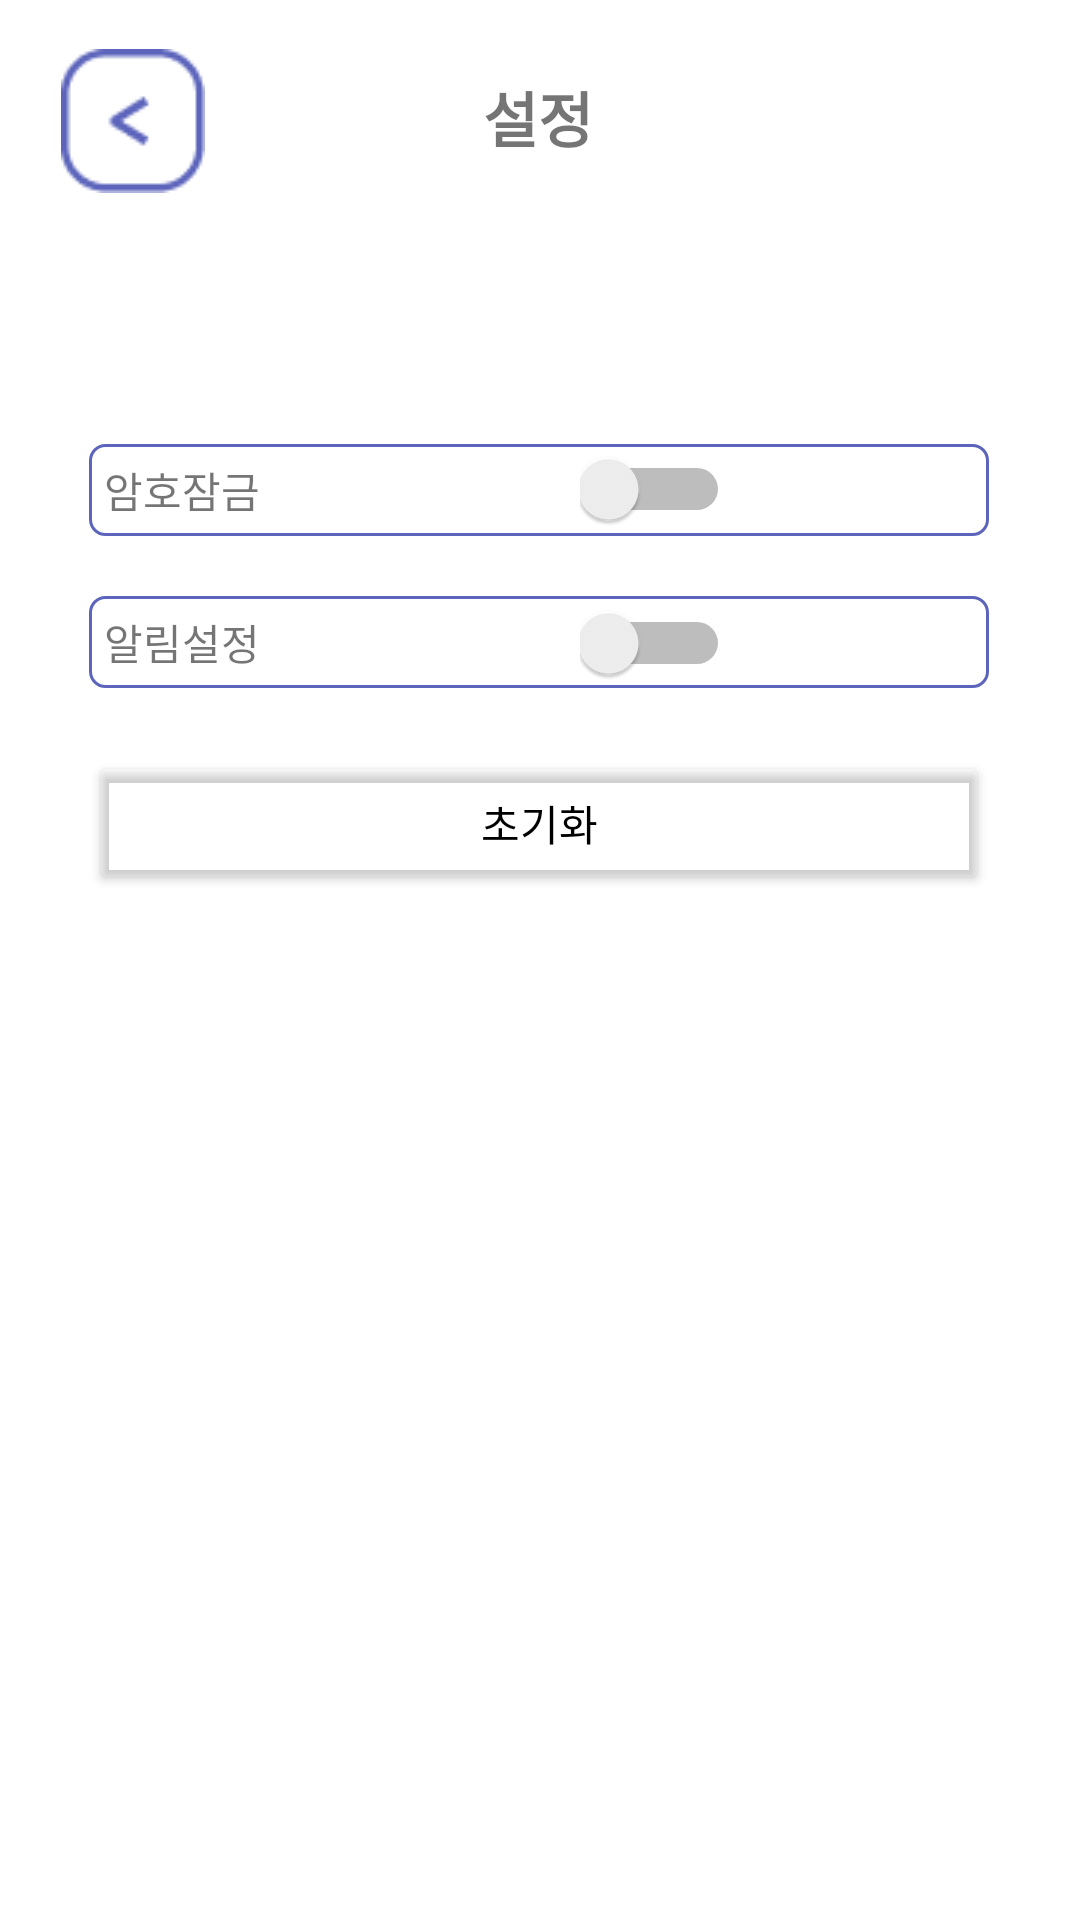

Icon bounding boxes for this 1080 × 1920 phone screenshot, format {"left": x1, "top": y1, "right": x2, "bottom": y2}:
prev: {"left": 61, "top": 49, "right": 205, "bottom": 193}
